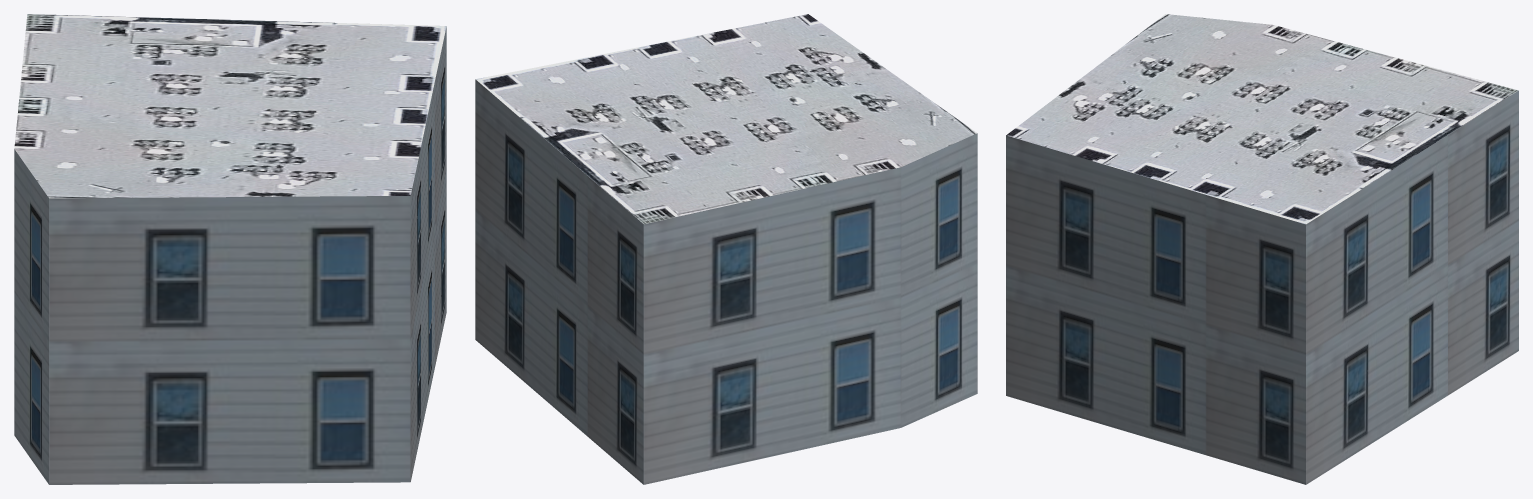
File: ResTex__4009.fbx
The picture shows the model from 3 angles, left to right: view 1: azimuth 30°, elevation 25°; view 2: azimuth 150°, elevation 25°; view 3: azimuth 270°, elevation 25°; orthographic projection. The views are drawn at different scales.
Parts seen in each view (by area): view 1: CityEngineMaterial_18_m, CityEngineMaterial_2_m; view 2: CityEngineMaterial_18_m, CityEngineMaterial_2_m; view 3: CityEngineMaterial_18_m, CityEngineMaterial_2_m.
Boxes of the visible parts, <box> form: CityEngineMaterial_18_m: <box>14,27,446,484</box>; CityEngineMaterial_2_m: <box>14,14,446,198</box>; CityEngineMaterial_18_m: <box>475,79,977,484</box>; CityEngineMaterial_2_m: <box>476,14,976,224</box>; CityEngineMaterial_18_m: <box>1006,90,1518,484</box>; CityEngineMaterial_2_m: <box>1006,14,1518,224</box>.
Size of the model in its own units: 10.4 by 6 by 10.71.
2 materials, 2 textured.
